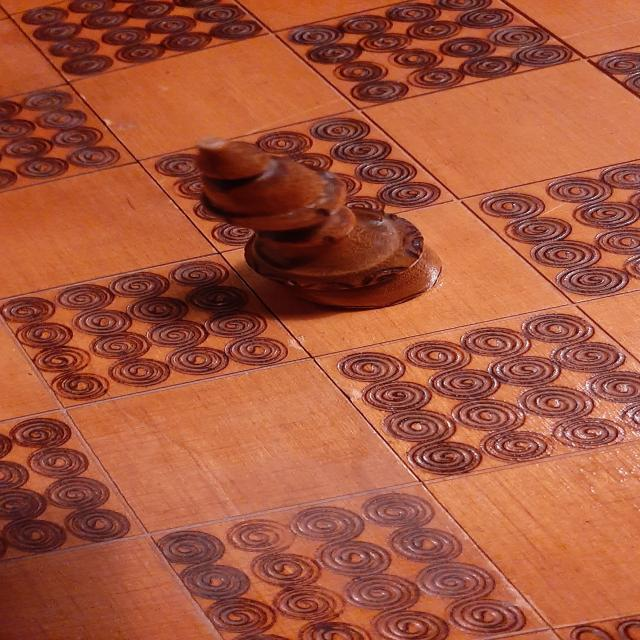black-queen: (195, 136, 445, 311)
